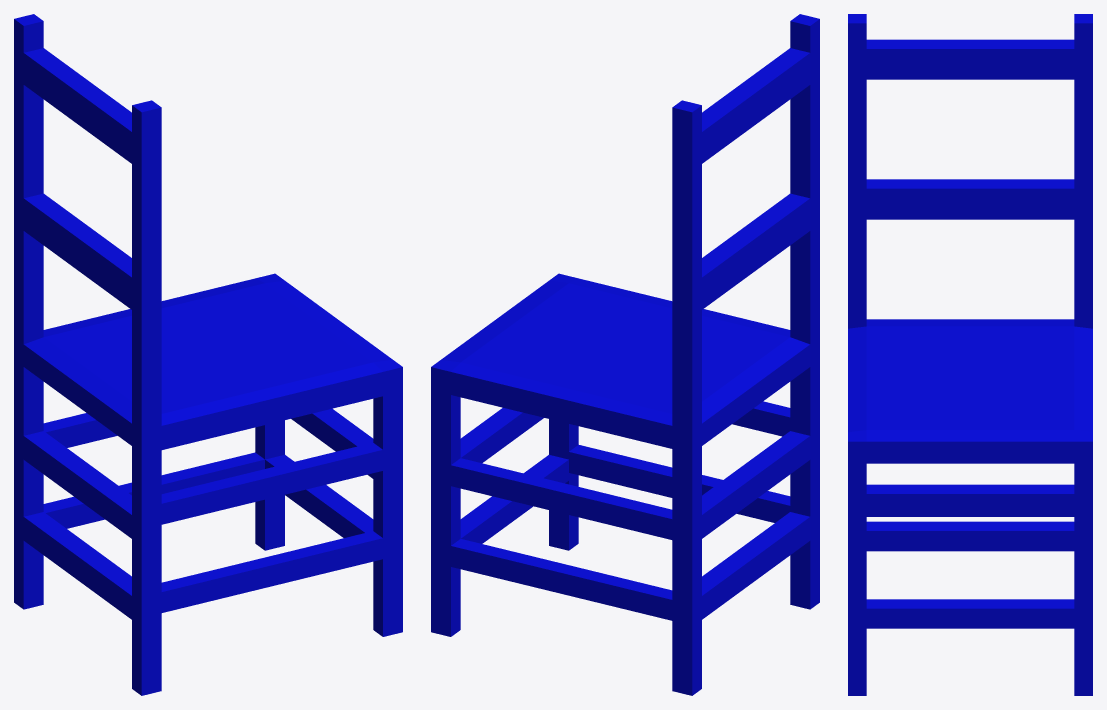
File: cube.533_lev3.glb
3 views of the same model, side by side, from view 1: azimuth 30°, elevation 25°; view 2: azimuth 150°, elevation 25°; view 3: azimuth 270°, elevation 25° (orthographic). The views are drawn at different scales.
Parts seen in each view (by area): view 1: cube.533_lev3; view 2: cube.533_lev3; view 3: cube.533_lev3.
Part boxes in pixels (bbox=[...]): cube.533_lev3: bbox=[14, 14, 402, 695]; cube.533_lev3: bbox=[431, 14, 819, 695]; cube.533_lev3: bbox=[848, 14, 1092, 695].
Bounding box in the file's own units: 0.3641 × 0.7772 × 0.3083.
